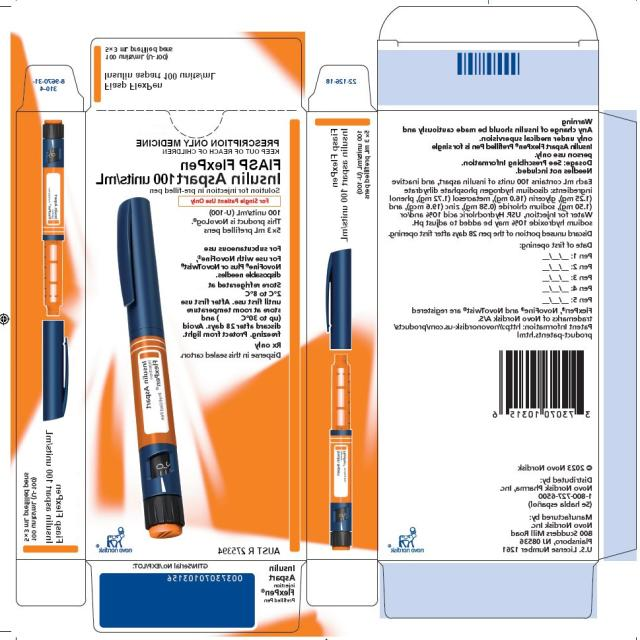Artwork: (0, 0, 640, 640)
Back_Panel: (379, 110, 600, 561)
Bottom_Part: (87, 561, 307, 635)
Extra_Areas: (600, 112, 640, 563), (377, 40, 600, 111), (379, 562, 599, 620), (377, 5, 598, 41), (306, 62, 376, 111), (307, 560, 378, 608), (15, 560, 86, 607), (17, 65, 84, 110)
Front_Panel: (85, 110, 307, 561)
Side_Panel: (306, 112, 379, 560), (17, 110, 86, 560)
Top_Panel: (85, 36, 304, 110)
